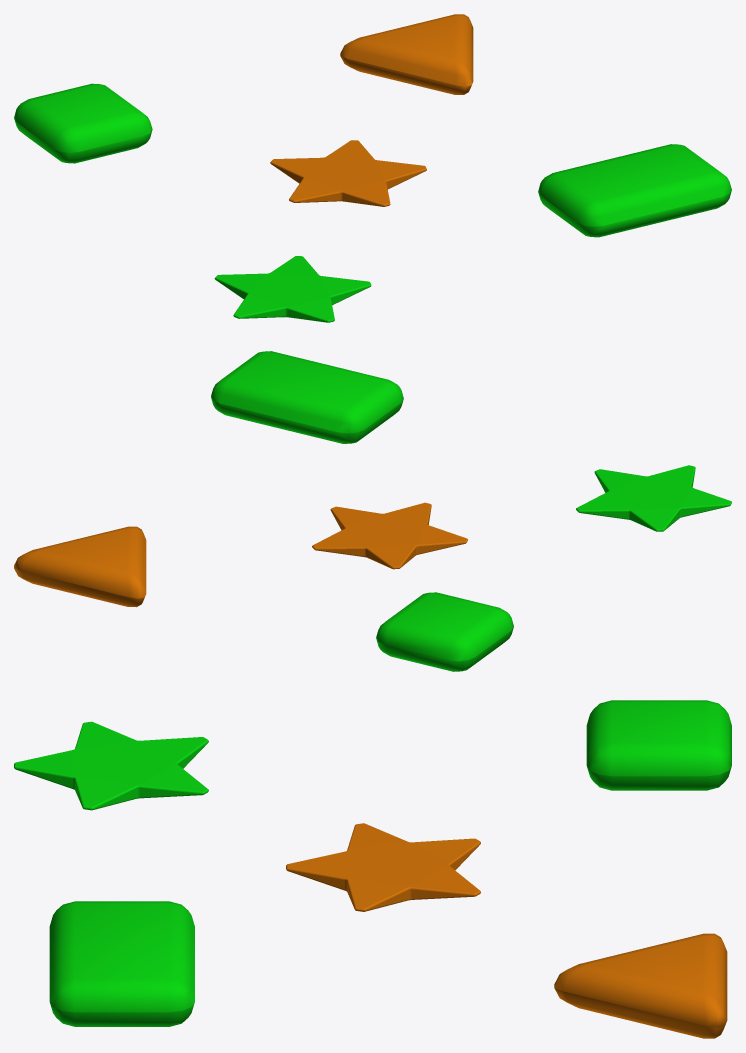
The model's file is livro_fase 3.fbx.
3 views of the same model, one above another, from view 1: azimuth 30°, elevation 25°; view 2: azimuth 150°, elevation 25°; view 3: azimuth 270°, elevation 25° (orthographic). The views are drawn at different scales.
Parts seen in each view (by area): view 1: Cube.015, Cube.016, Cylinder.012, Cylinder.006, Cylinder.005; view 2: Cube.015, Cube.016, Cylinder.012, Cylinder.005, Cylinder.006; view 3: Cube.015, Cube.016, Cylinder.012, Cylinder.006, Cylinder.005.
Boxes of the visible parts, x1,y1,x2,y2 form: Cube.015: (538, 144, 731, 237); Cube.016: (14, 83, 152, 163); Cylinder.012: (340, 14, 473, 94); Cylinder.006: (214, 256, 371, 322); Cylinder.005: (270, 140, 426, 206); Cube.015: (211, 351, 403, 443); Cube.016: (376, 592, 513, 671); Cylinder.012: (14, 526, 146, 607); Cylinder.005: (312, 502, 467, 569); Cylinder.006: (576, 465, 731, 531); Cube.015: (49, 901, 194, 1026); Cube.016: (586, 700, 731, 790); Cylinder.012: (554, 933, 727, 1038); Cylinder.006: (14, 721, 208, 810); Cylinder.005: (286, 823, 480, 911).
Bounding box in the file's own units: 1.19 × 0.1204 × 1.16.
